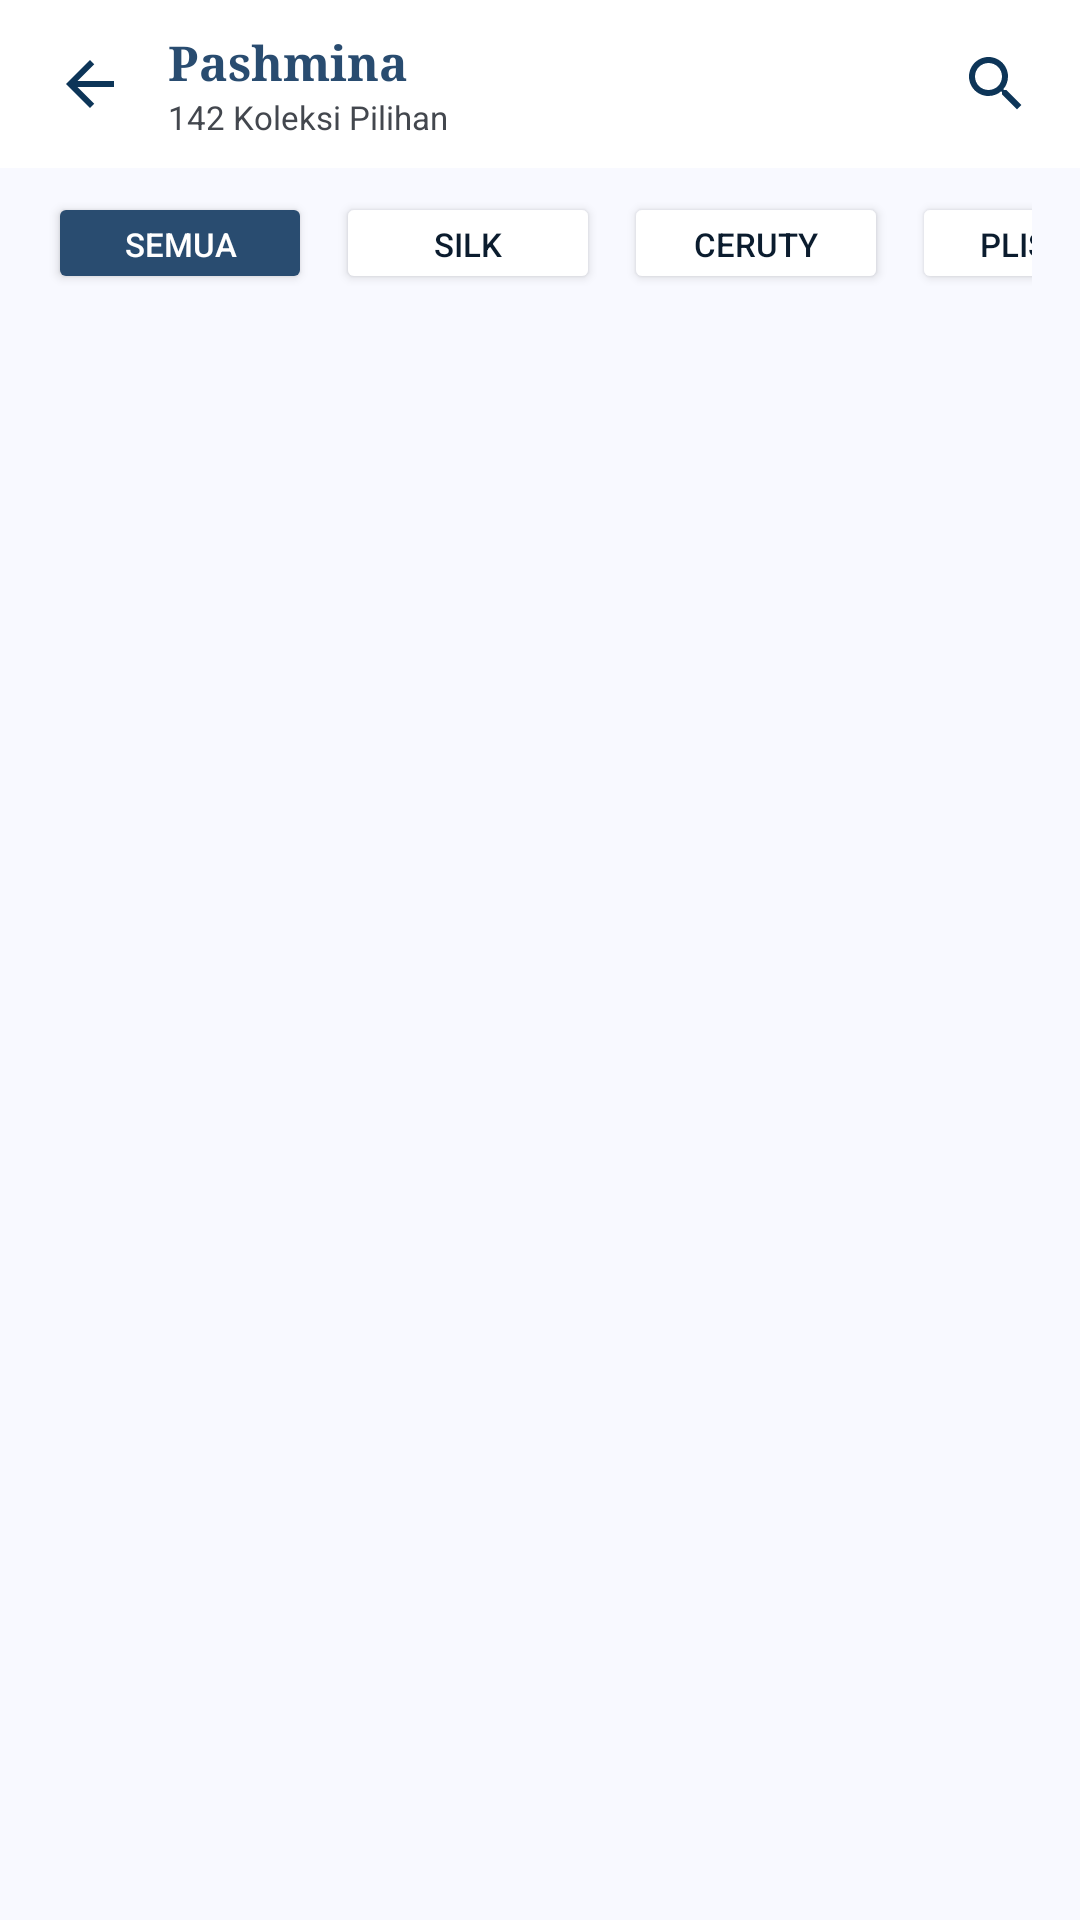

Icons on this 1080w x 1920h Android screen, each with the point to tap as (x,y):
Back: (90,84)
search: (995,83)
